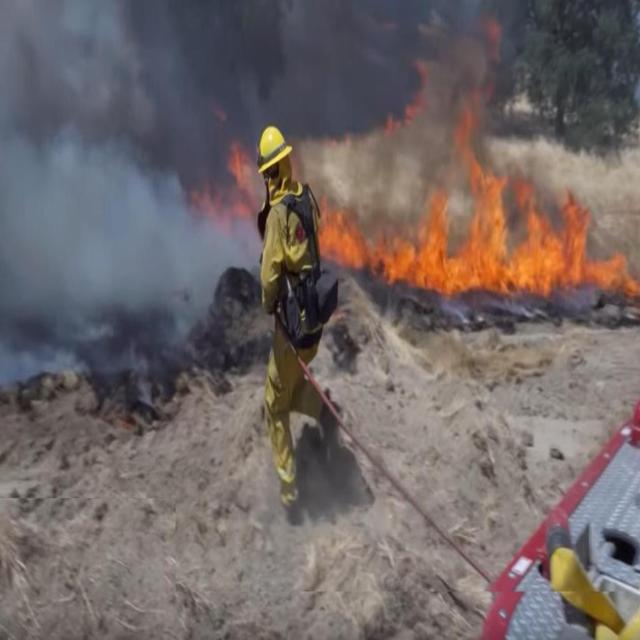fire: (319, 178, 629, 294)
